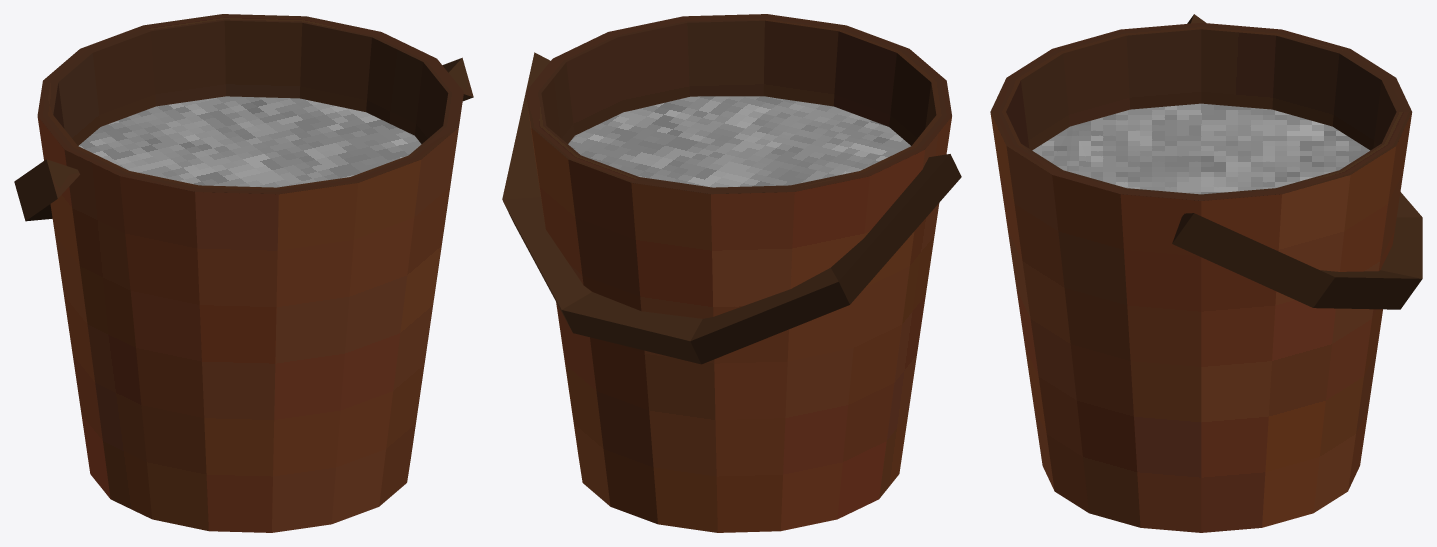
Rendered from FullBucket.glb.
3 views of the same model, side by side, from view 1: azimuth 30°, elevation 25°; view 2: azimuth 150°, elevation 25°; view 3: azimuth 270°, elevation 25° (orthographic).
Parts seen in each view (by area): view 1: Bucket, Contents; view 2: Bucket, Contents; view 3: Bucket, Contents.
Boxes of the visible parts, x1=… form: Bucket: x1=14, y1=14, x2=473, y2=532; Contents: x1=78, y1=96, x2=421, y2=187; Bucket: x1=502, y1=14, x2=961, y2=532; Contents: x1=568, y1=96, x2=910, y2=187; Bucket: x1=990, y1=14, x2=1422, y2=532; Contents: x1=1032, y1=103, x2=1369, y2=194.
Bounding box in the file's own units: 0.603 × 0.5 × 0.5533.
Materials: 1 (1 with a texture image).
